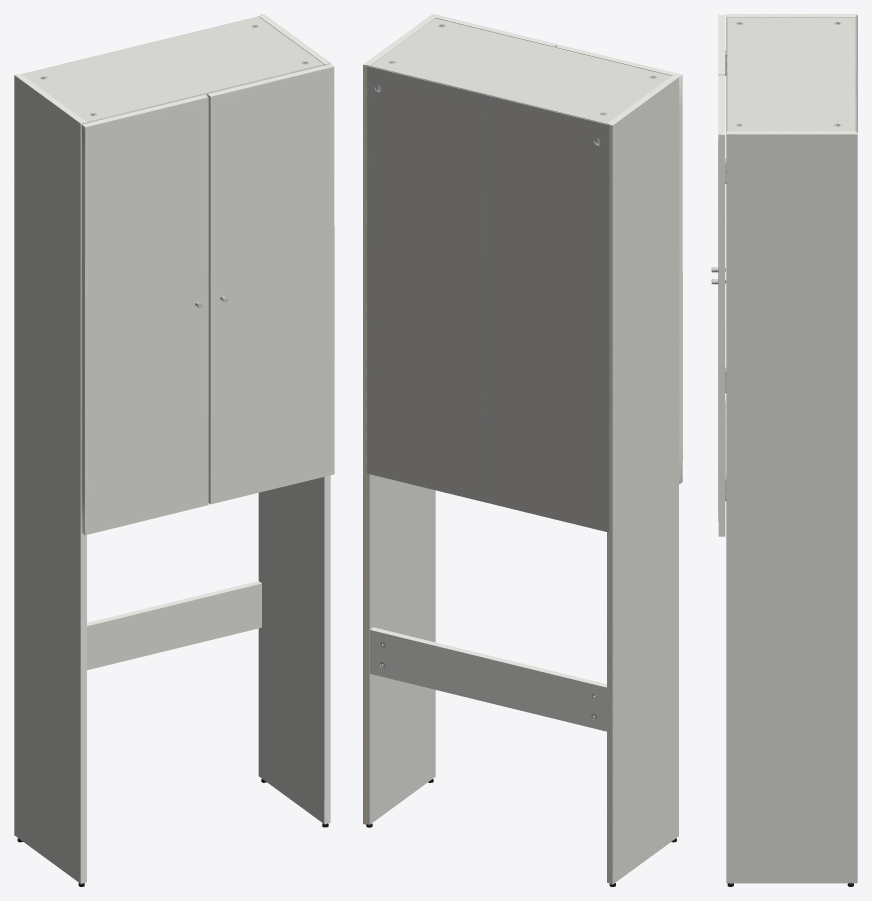
The model's file is nysjon_szafka_nad_pralke_10496477.glb.
3 views of the same model, side by side, from view 1: azimuth 30°, elevation 25°; view 2: azimuth 150°, elevation 25°; view 3: azimuth 270°, elevation 25° (orthographic).
Visible parts, largest first — view 1: nysjon_szafka_nad_pralke_10496477; view 2: nysjon_szafka_nad_pralke_10496477; view 3: nysjon_szafka_nad_pralke_10496477.
Part boxes in pixels (x1,y1,x2,y2): nysjon_szafka_nad_pralke_10496477: [14, 14, 334, 886]; nysjon_szafka_nad_pralke_10496477: [363, 14, 682, 886]; nysjon_szafka_nad_pralke_10496477: [711, 14, 857, 886].
Bounding box in the file's own units: 0.6502 × 1.9 × 0.334.
2 materials, 2 textured.
